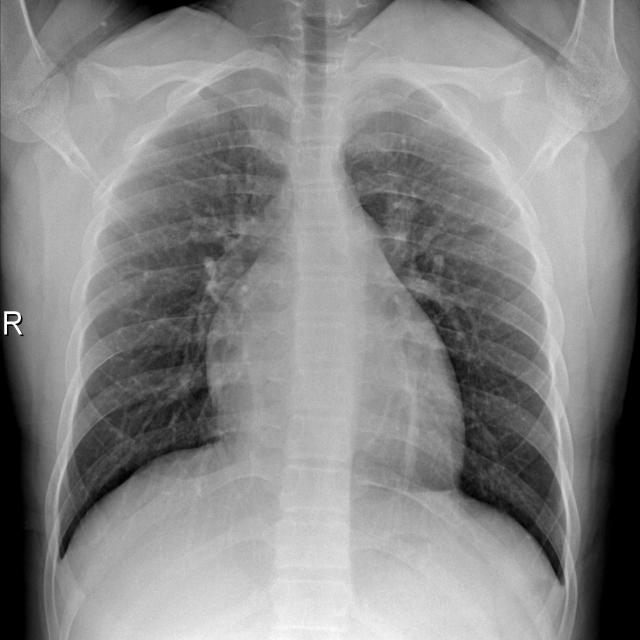no-pneumonia: (344, 92, 568, 580), (56, 88, 290, 555)
